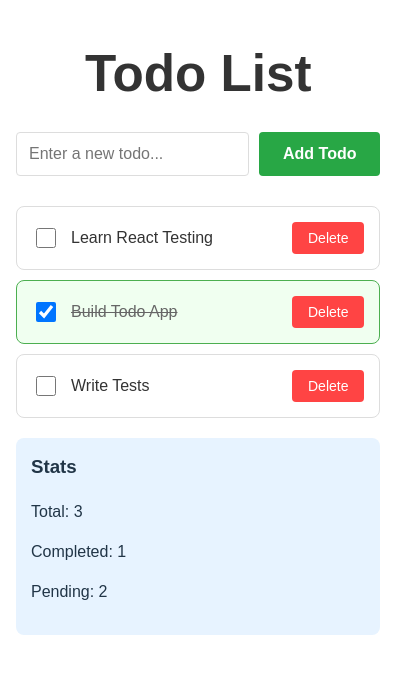
it: adds a new todo
Type "New Test Todo" into the field with placeholder "Enter a new todo..." at x=132, y=154, box x1=16 y1=132 x2=249 y2=176
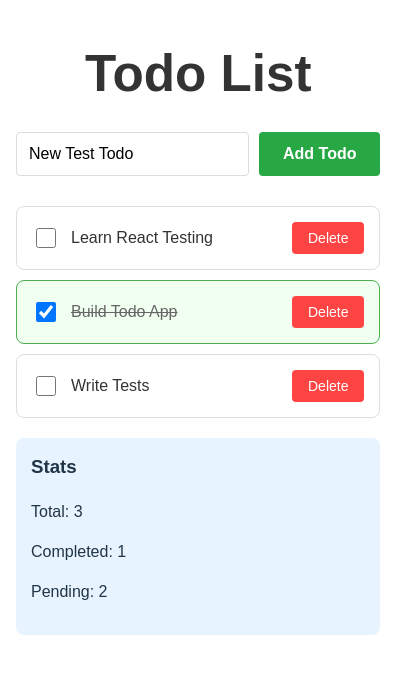
Click the button "Add Todo" at x=320, y=154, box x1=259 y1=132 x2=380 y2=176
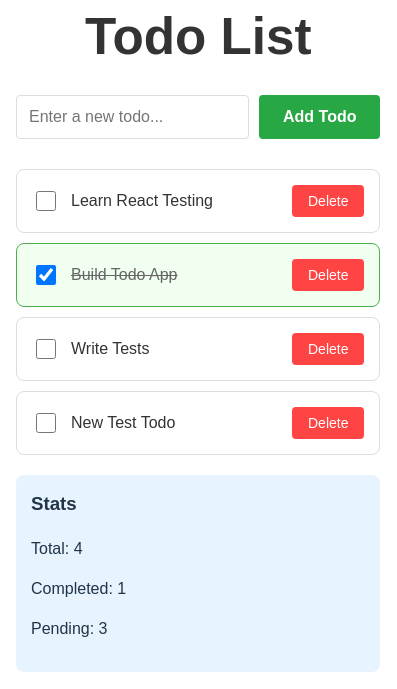
expect the text "New Test Todo" is shown: met, box x1=71 y1=414 x2=175 y2=431
expect the text "Total: 4" is shown: met, box x1=31 y1=540 x2=83 y2=557
